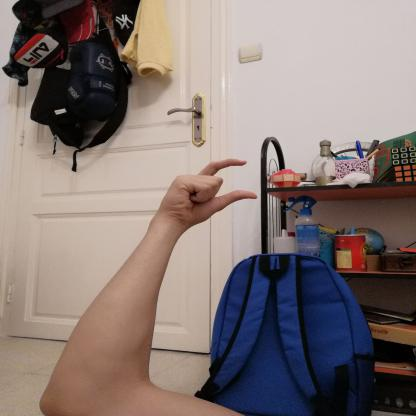DELL: (155, 149, 265, 230)
